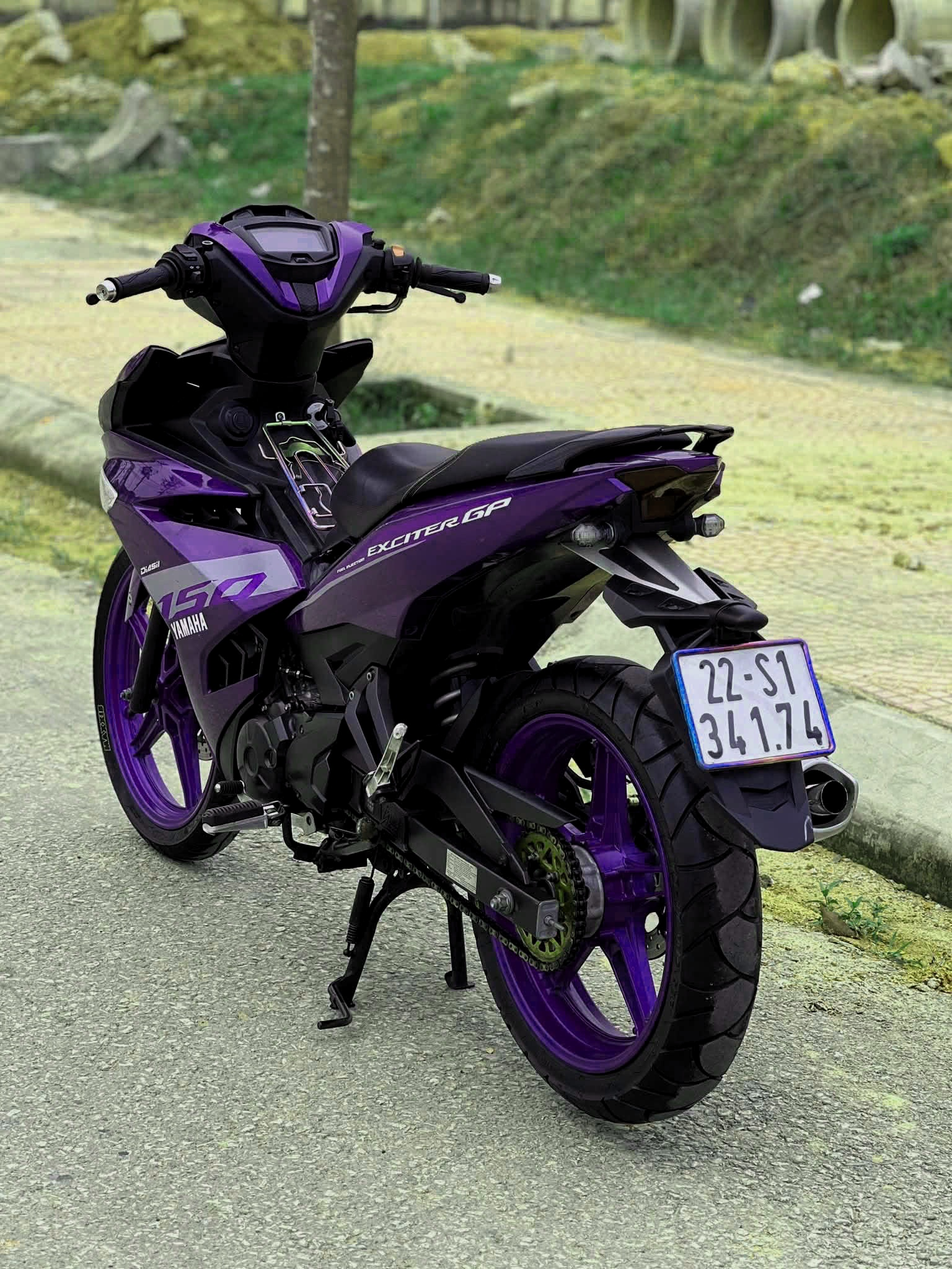Bien-so: (680, 599, 853, 740)
